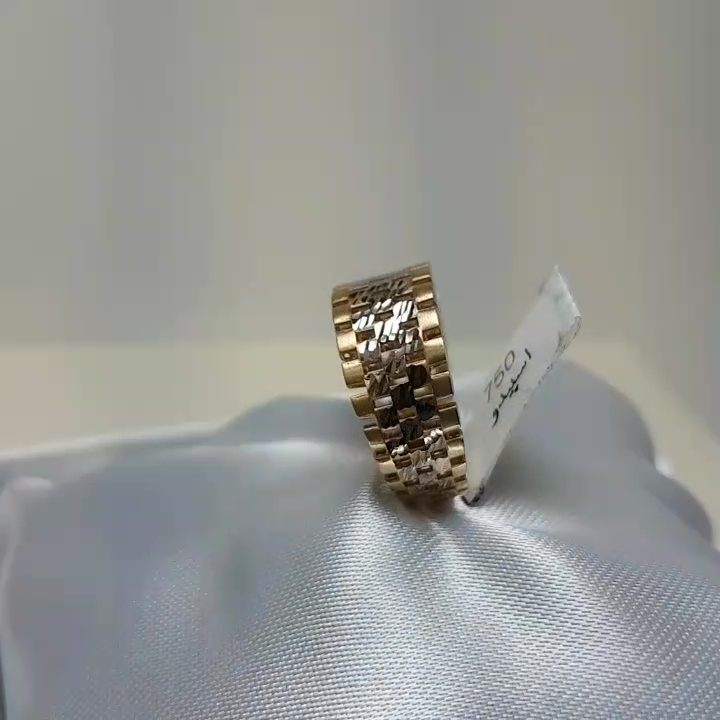Ring 1: (313, 253, 485, 512)
